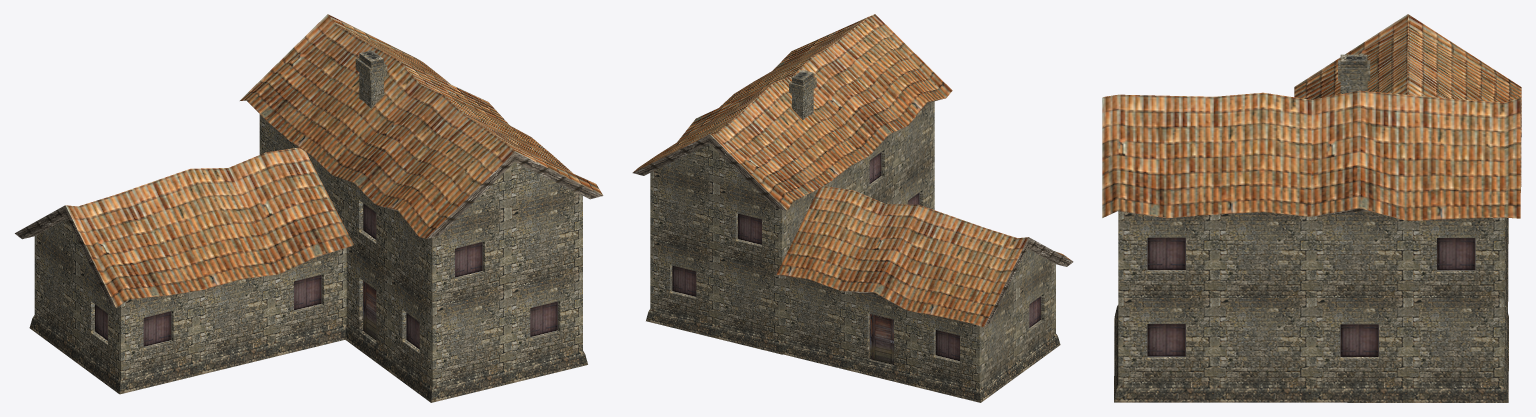
Rendered from s44_b_house_1_5.dae.
The picture shows the model from 3 angles, left to right: view 1: azimuth 30°, elevation 25°; view 2: azimuth 150°, elevation 25°; view 3: azimuth 270°, elevation 25°; orthographic projection. The views are drawn at different scales.
Parts seen in each view (by area): view 1: Untitled; view 2: Untitled; view 3: Untitled.
Boxes of the visible parts, x1=… form: Untitled: x1=15, y1=14, x2=603, y2=402; Untitled: x1=632, y1=14, x2=1073, y2=402; Untitled: x1=1102, y1=14, x2=1521, y2=402.
Bounding box in the file's own units: 128 × 104 × 78.3.
1 material, 1 textured.
